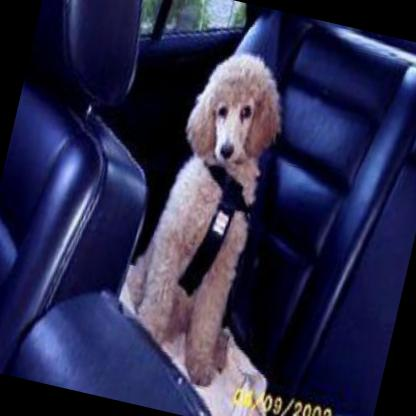standard_poodle: (104, 31, 298, 390)
